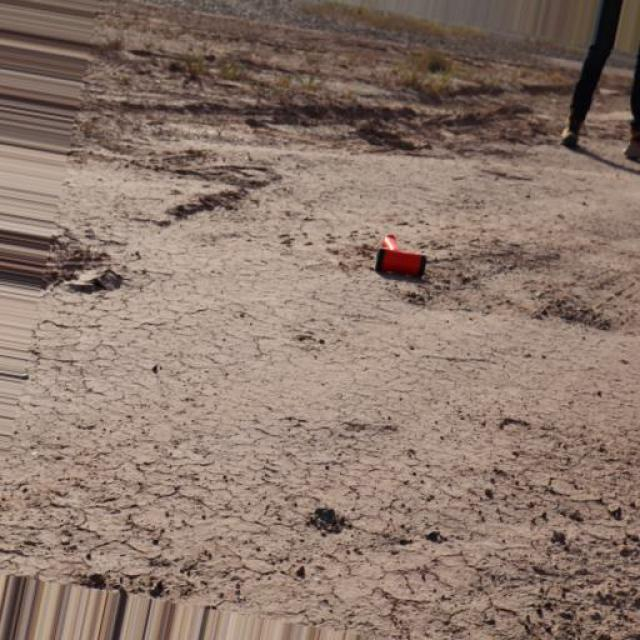mallet: (372, 232, 427, 278)
